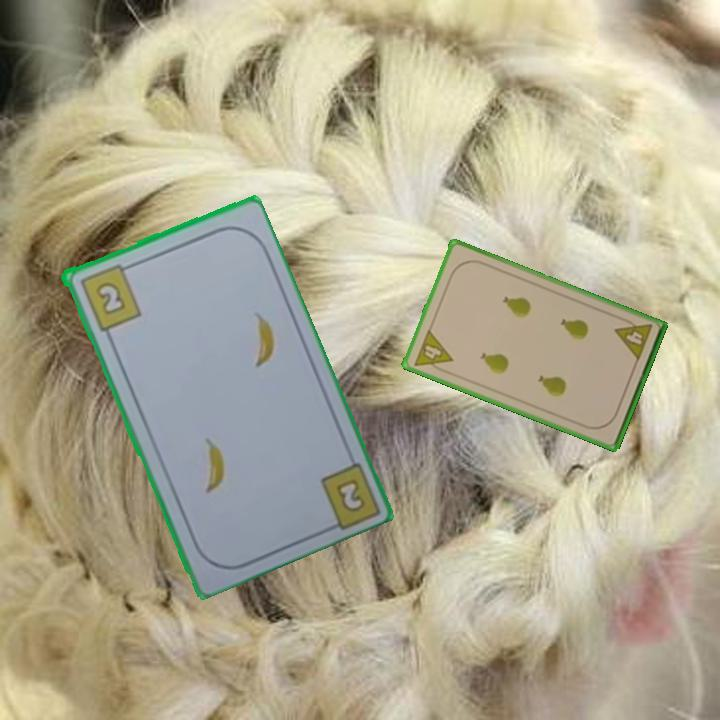2b: (76, 260, 144, 334), (332, 475, 368, 516)
4p: (410, 326, 455, 377), (611, 314, 655, 364)
